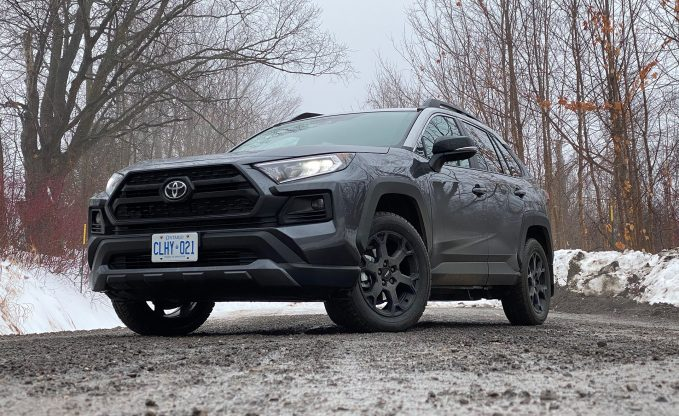Toyota RAV-4: (86, 106, 558, 334)
